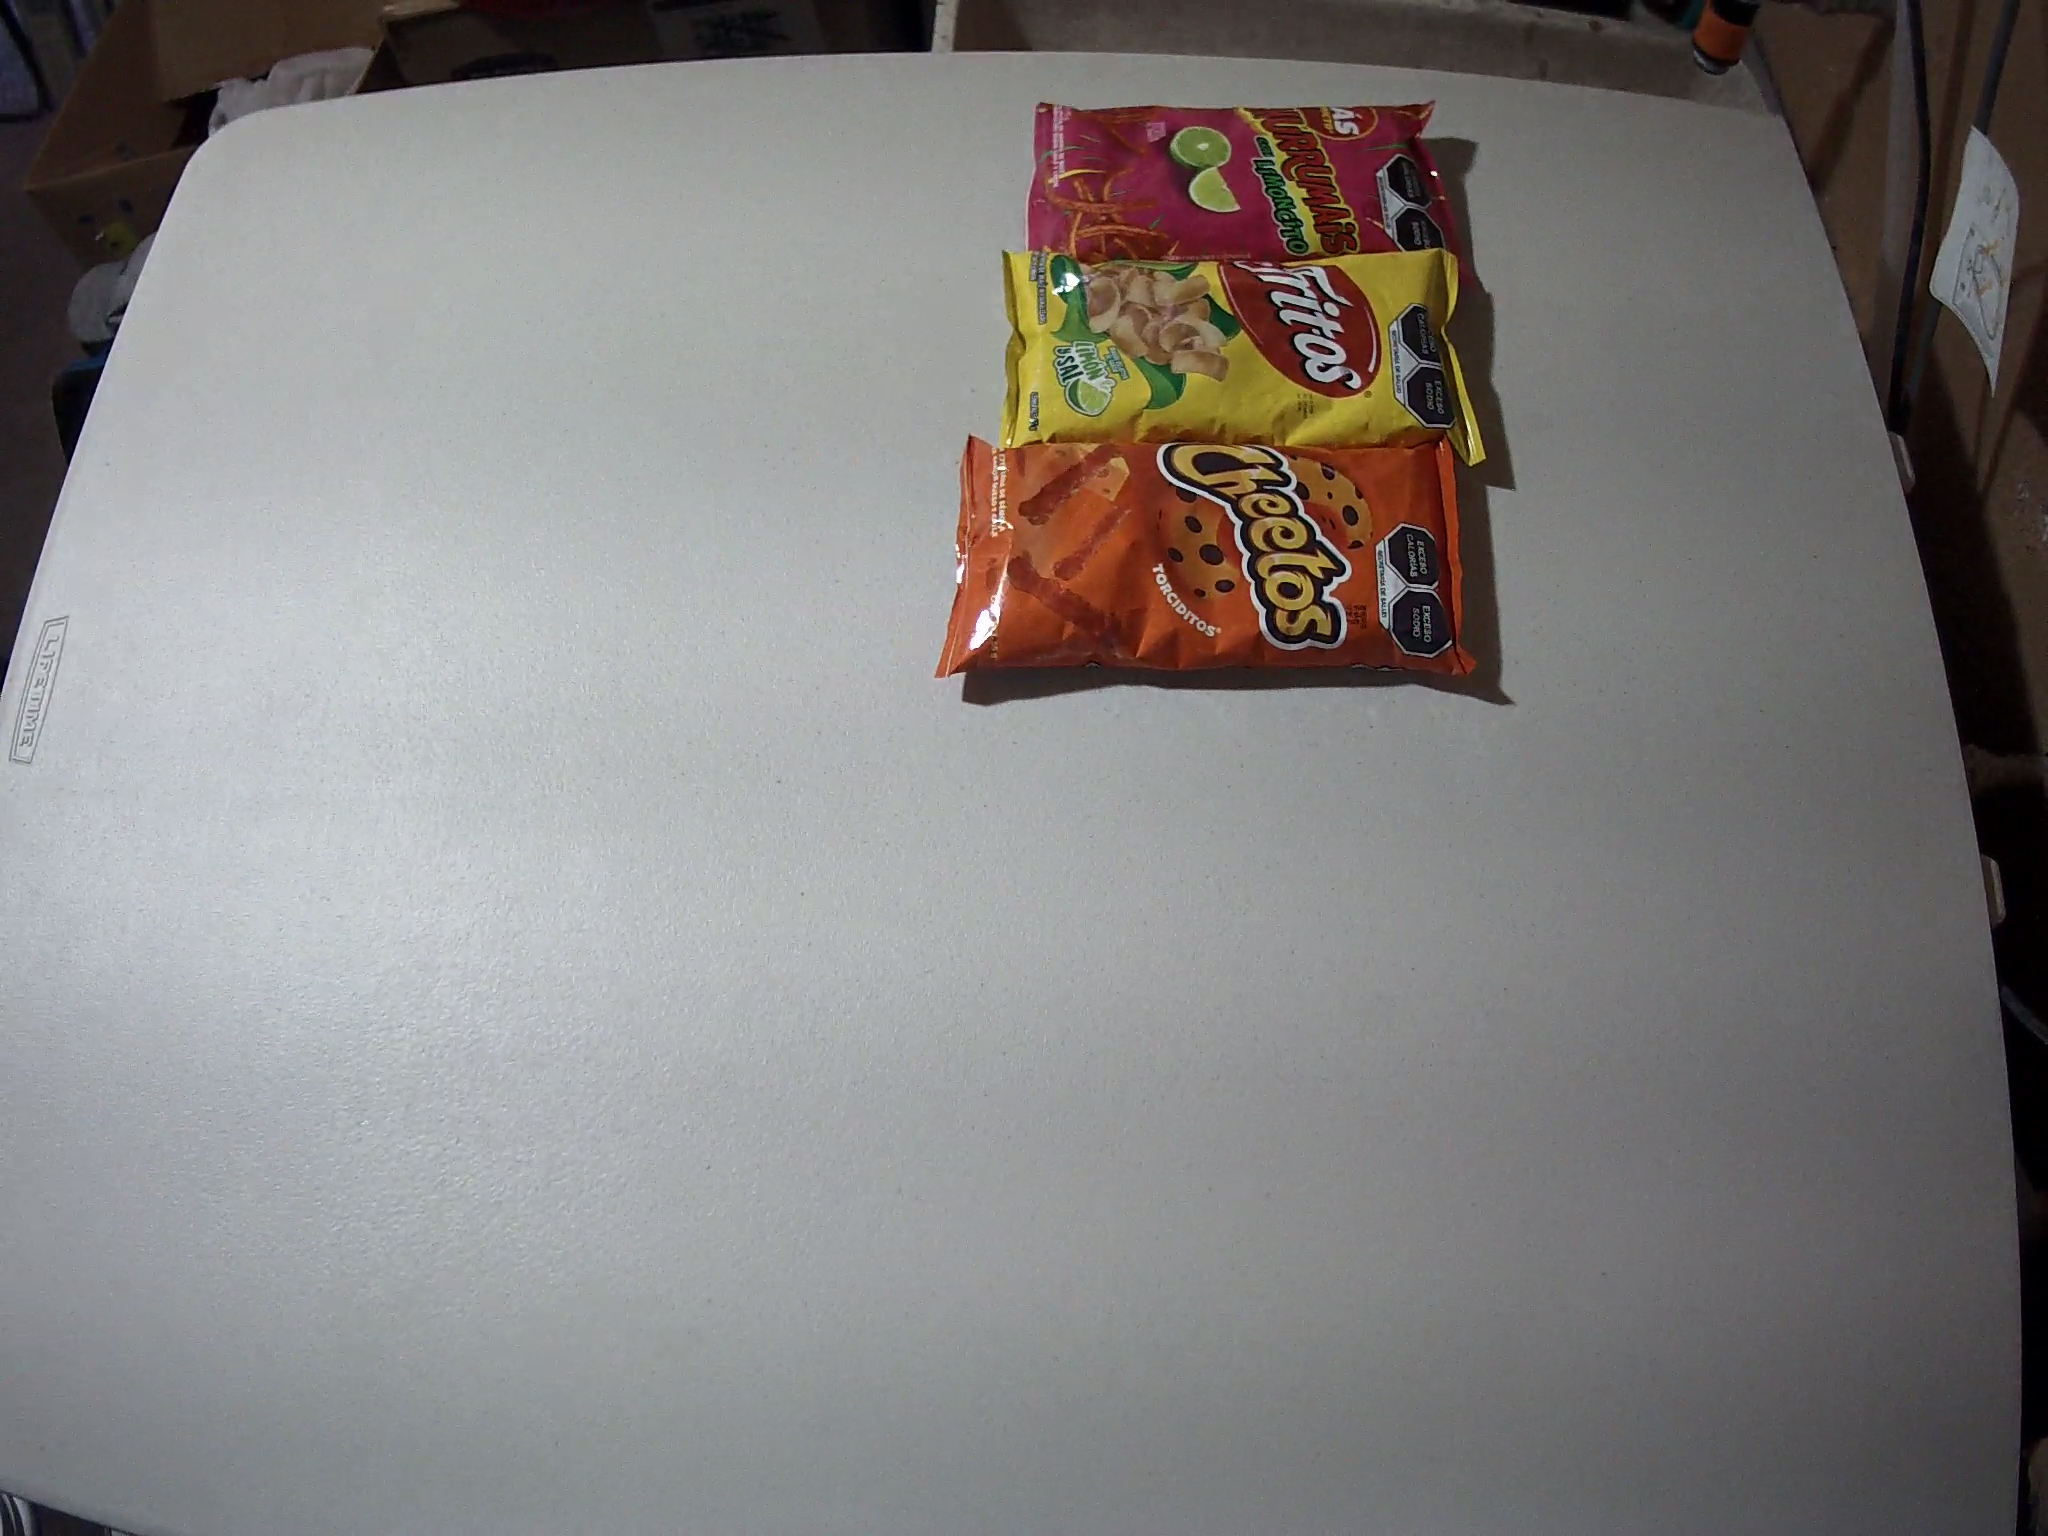CheetosTorciditos_55_F: (932, 436, 1484, 676)
Churrumais_70_F: (1026, 97, 1479, 290)
FritosSalLimon_65_F: (1000, 247, 1490, 470)
